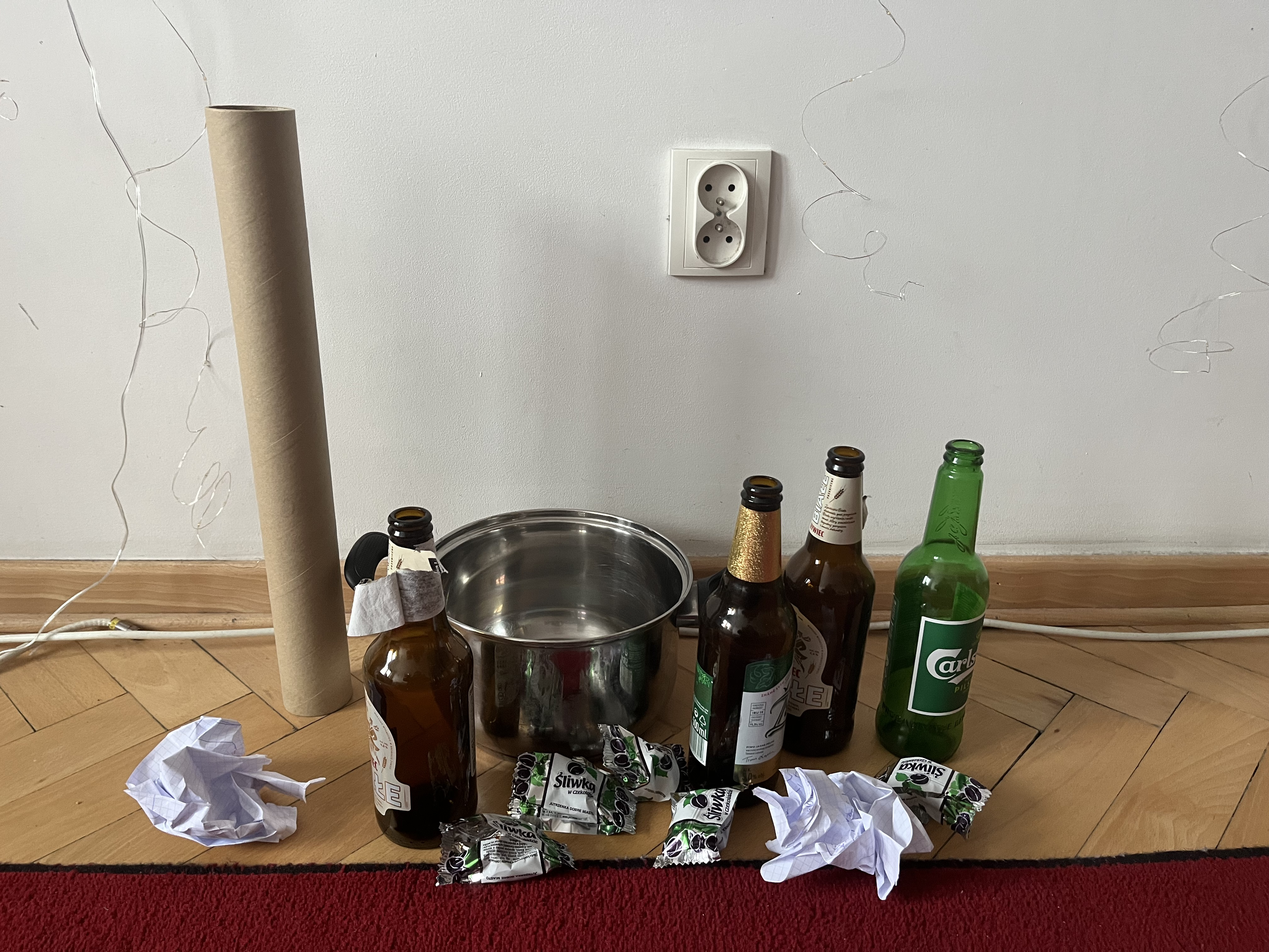CARDBOARD: (188, 93, 357, 723)
GLASS: (342, 493, 484, 878), (877, 438, 1017, 761), (689, 470, 797, 805)
METAL: (426, 496, 691, 767)
PAPER: (111, 703, 334, 885), (745, 752, 939, 914)
PLASTIC: (781, 439, 883, 772), (495, 741, 632, 854), (421, 809, 576, 898), (873, 748, 995, 846), (654, 777, 747, 885), (594, 718, 683, 815)
